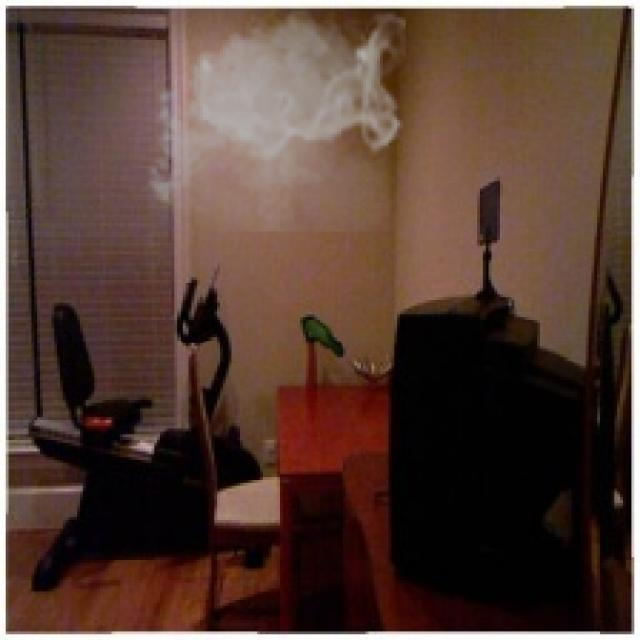smoke: (140, 0, 406, 232)
